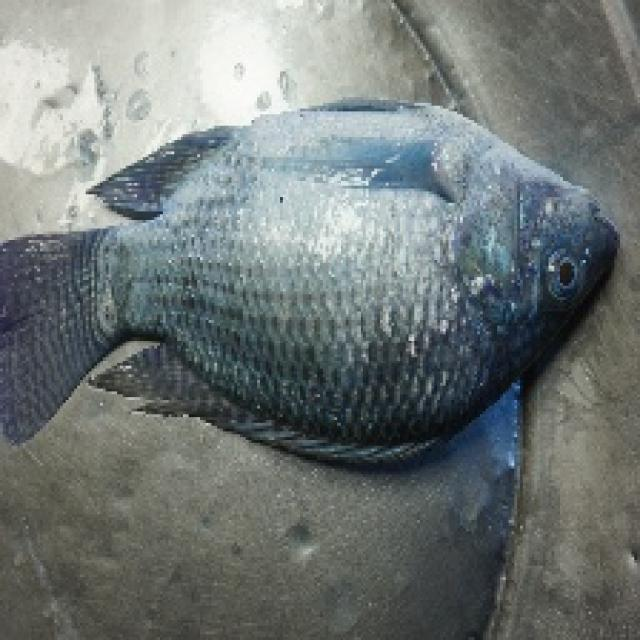Fresh: (155, 88, 622, 437)
